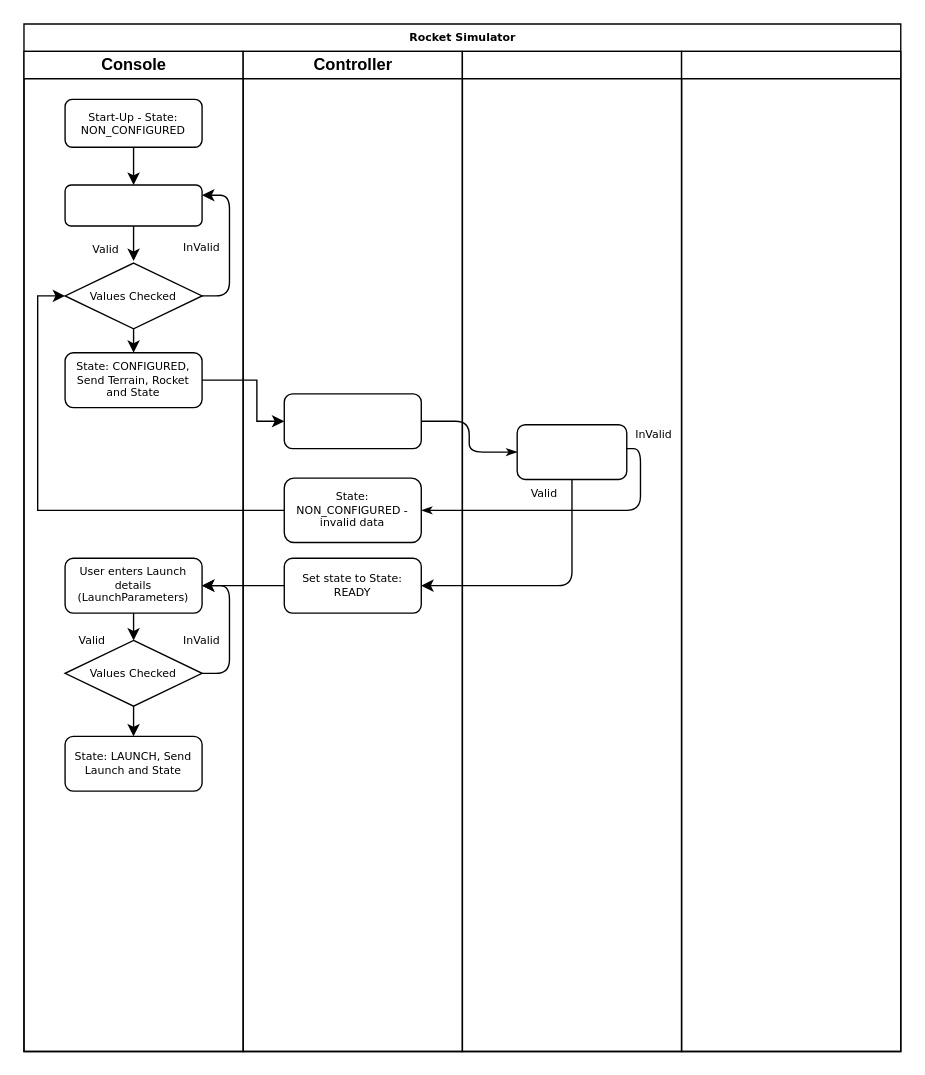
The diagram is 925 pixels wide and 1075 high, and some of its shapes have lost their labels. Each missing label, with the box of its shape:
Algorithm: (461, 50, 682, 1051)
Graphics: (680, 50, 901, 1051)
Send Data: (283, 393, 421, 449)
User enters flight details: (64, 184, 202, 226)
Validate Data: (516, 423, 627, 480)
